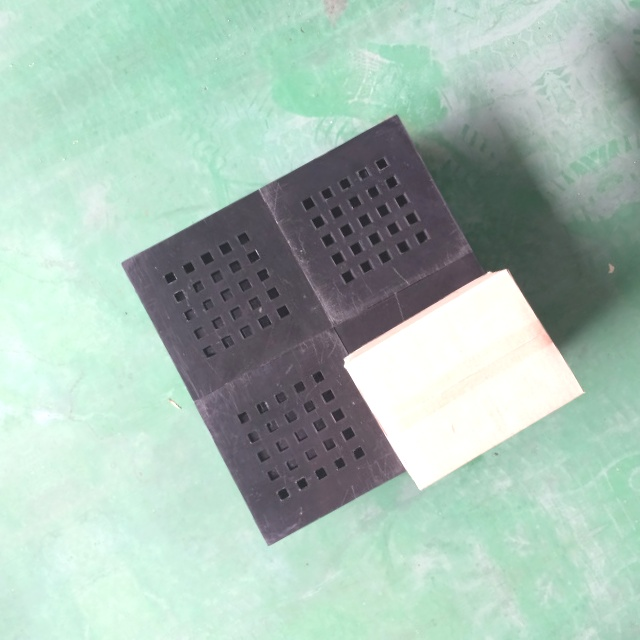box: (340, 262, 585, 496)
pallet: (82, 106, 602, 552)
